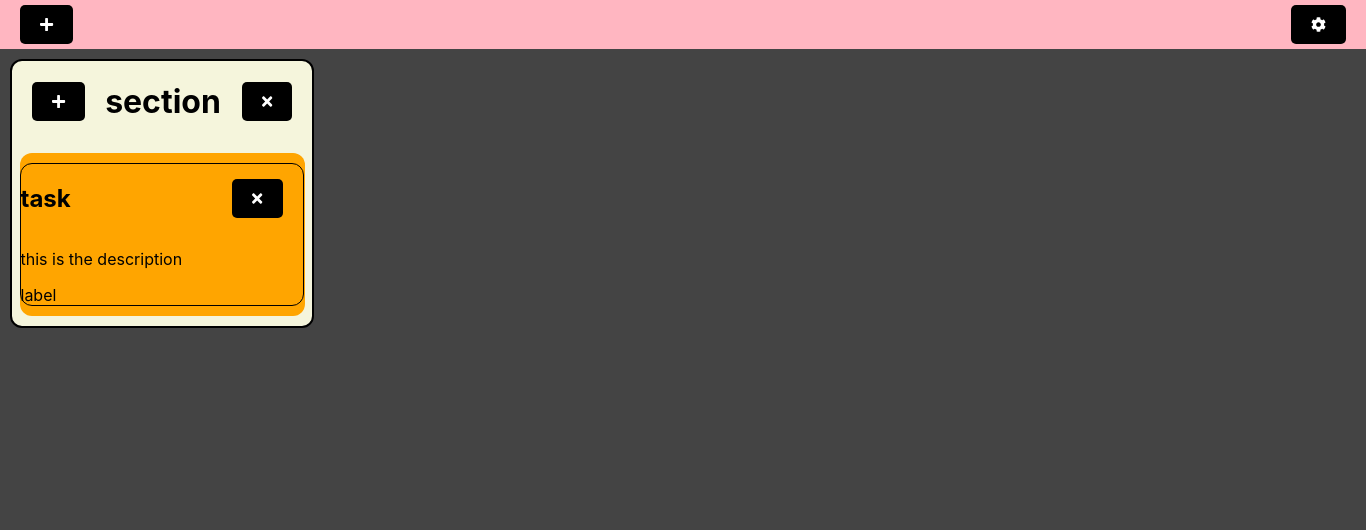
Test: testing GET fetch functions + button interactivity › testing that clicking cog button topbar brings up modal
// third instance will be adding task
Step 1. Click the 3rd button → (59, 102), box [32,82,85,121]
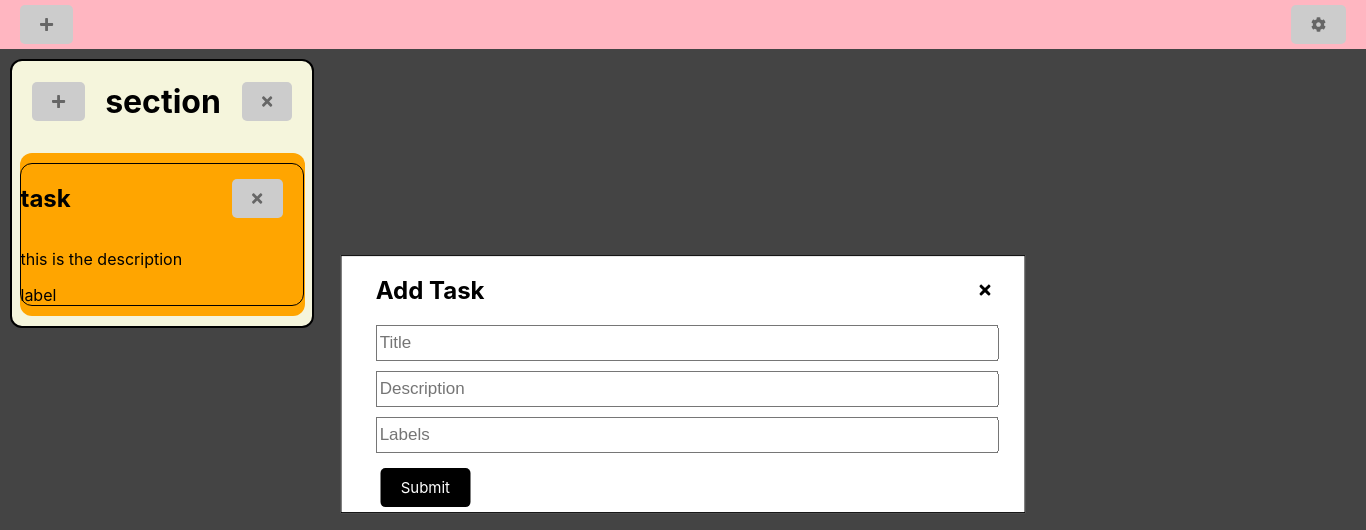
Expected: the heading "Add Task" is shown, [376,276,485,305]
